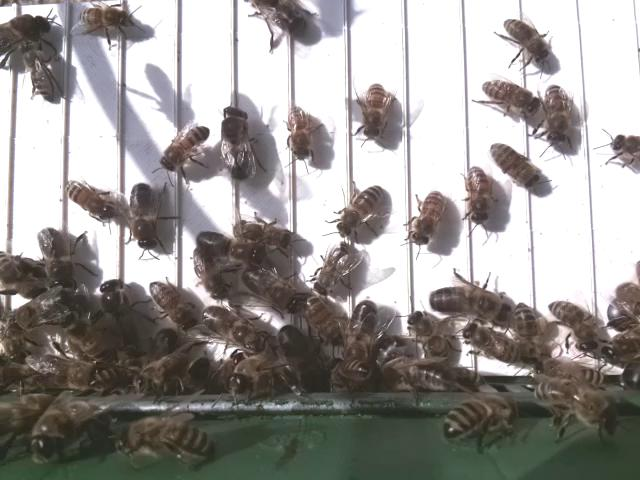Drone: (428, 281, 515, 323), (238, 263, 306, 316), (193, 225, 267, 270), (34, 222, 76, 295), (219, 102, 255, 185), (128, 178, 161, 252)
Worker: (546, 296, 600, 354), (155, 124, 214, 176), (333, 183, 389, 237), (146, 276, 198, 333), (478, 75, 541, 122), (490, 139, 543, 193), (461, 323, 524, 368), (20, 41, 60, 107), (62, 176, 118, 222), (501, 15, 552, 64), (404, 189, 447, 247), (230, 214, 300, 249), (310, 242, 354, 297), (282, 100, 316, 168), (76, 3, 140, 39), (463, 163, 495, 229), (542, 80, 572, 149), (359, 78, 390, 144)
